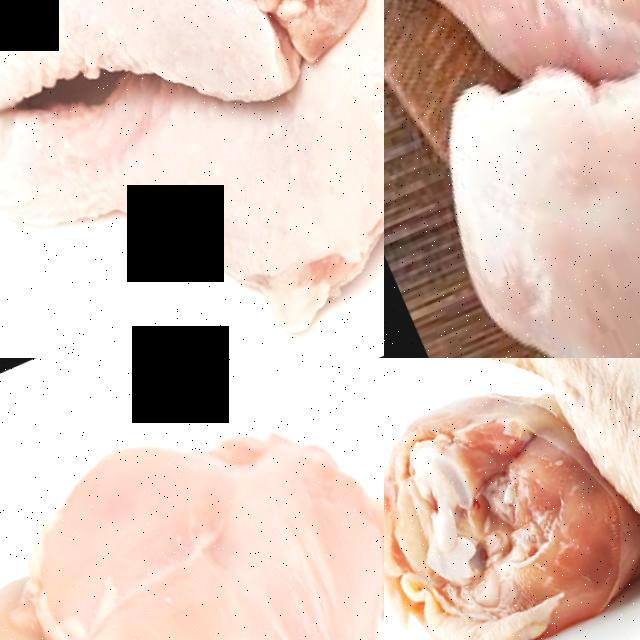chicken breast: (0, 358, 384, 640), (440, 0, 640, 358), (384, 0, 640, 160)
chicken thigh: (0, 0, 384, 358), (0, 0, 384, 221), (409, 358, 640, 640)
